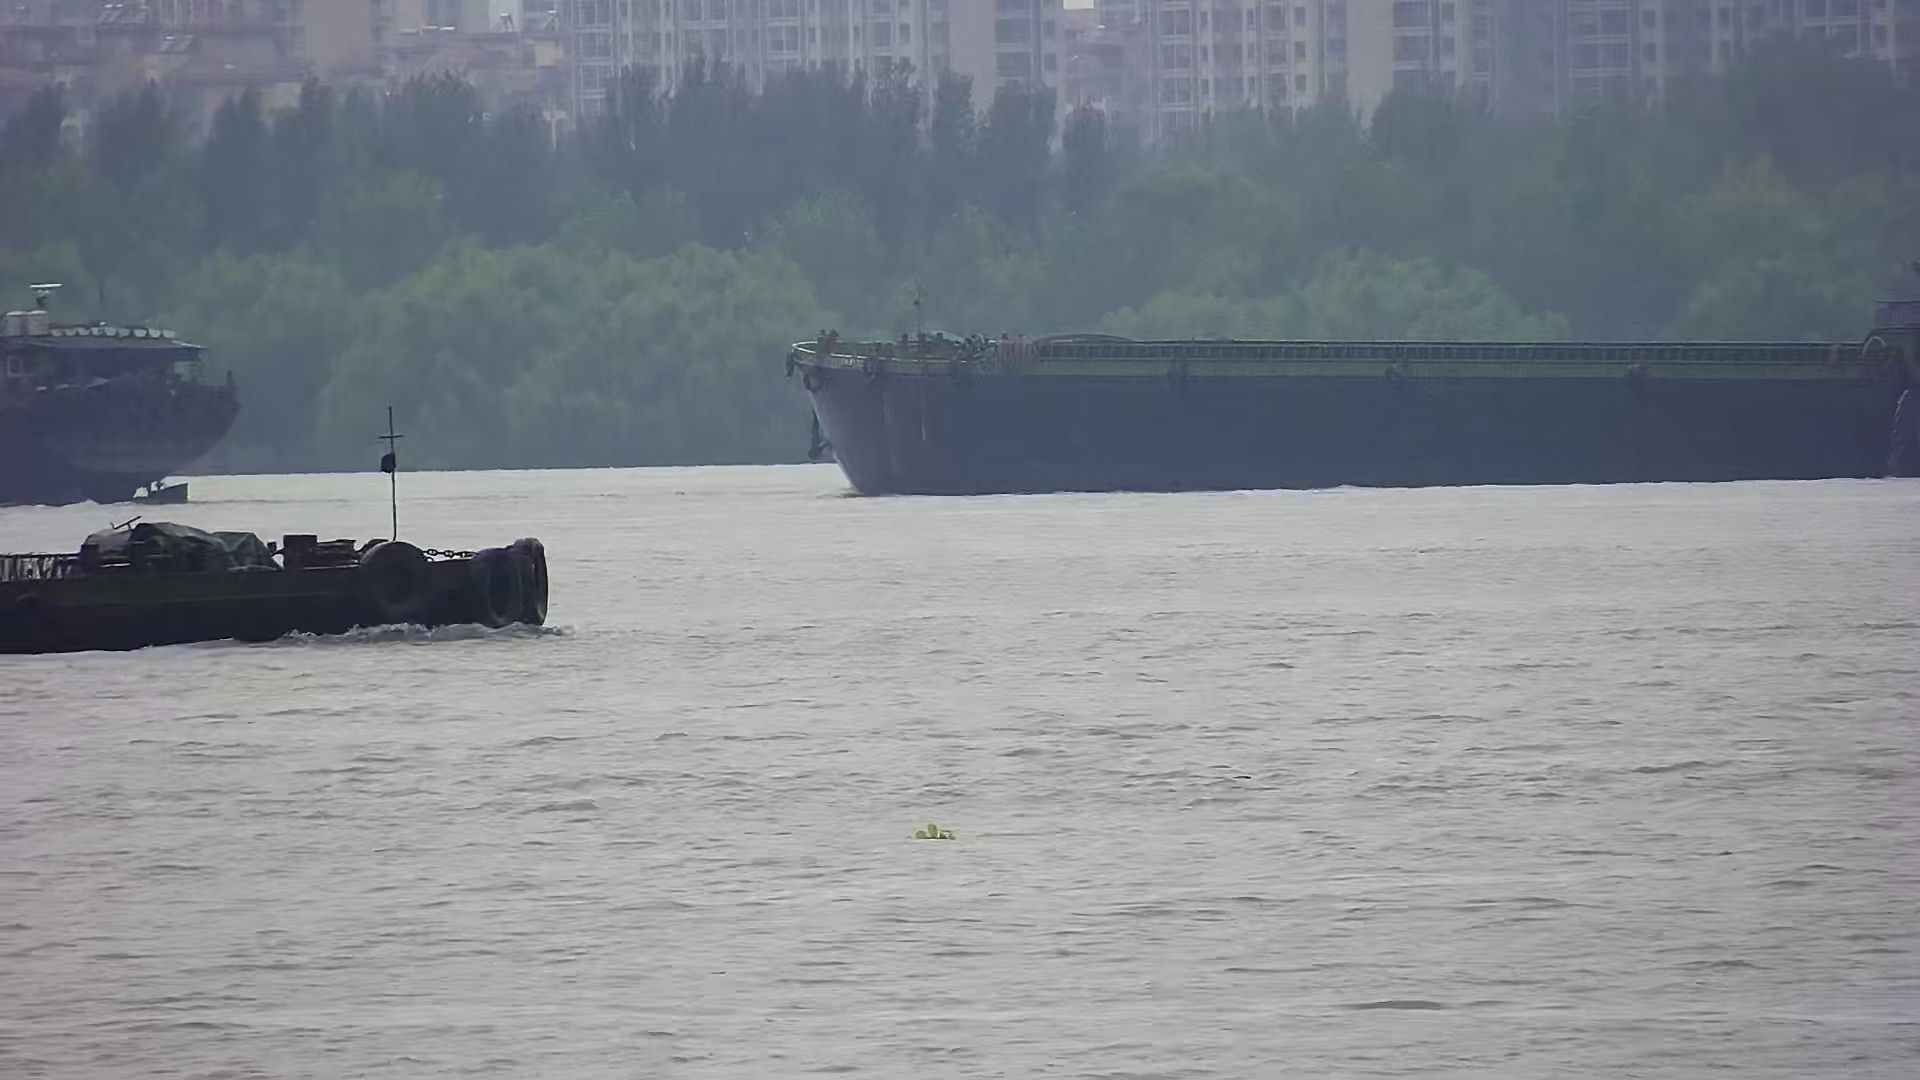rubbish: (906, 822, 957, 843)
ship: (785, 302, 1920, 498), (1, 407, 550, 654), (1, 280, 239, 506)
